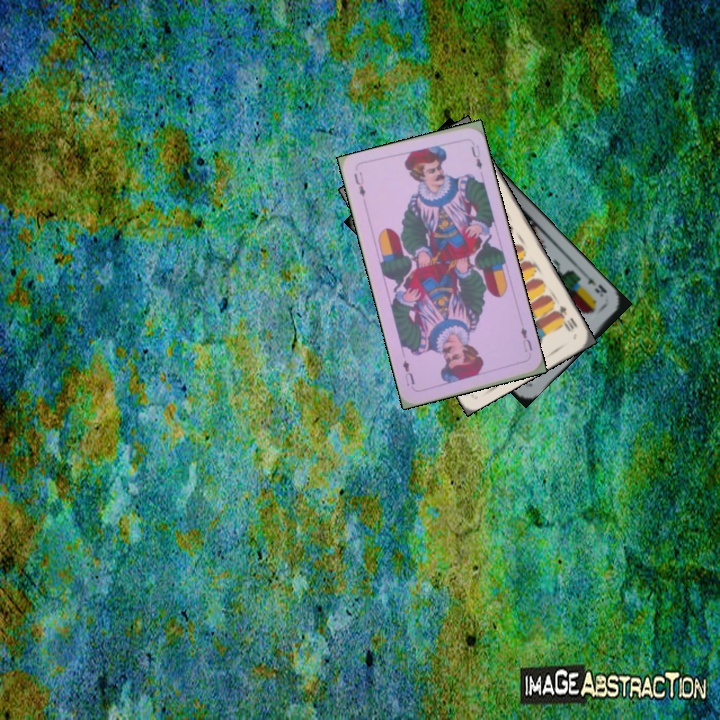E10: (551, 301, 580, 335)
EK: (580, 270, 610, 299)
EU: (516, 323, 535, 355), (350, 167, 368, 199)
